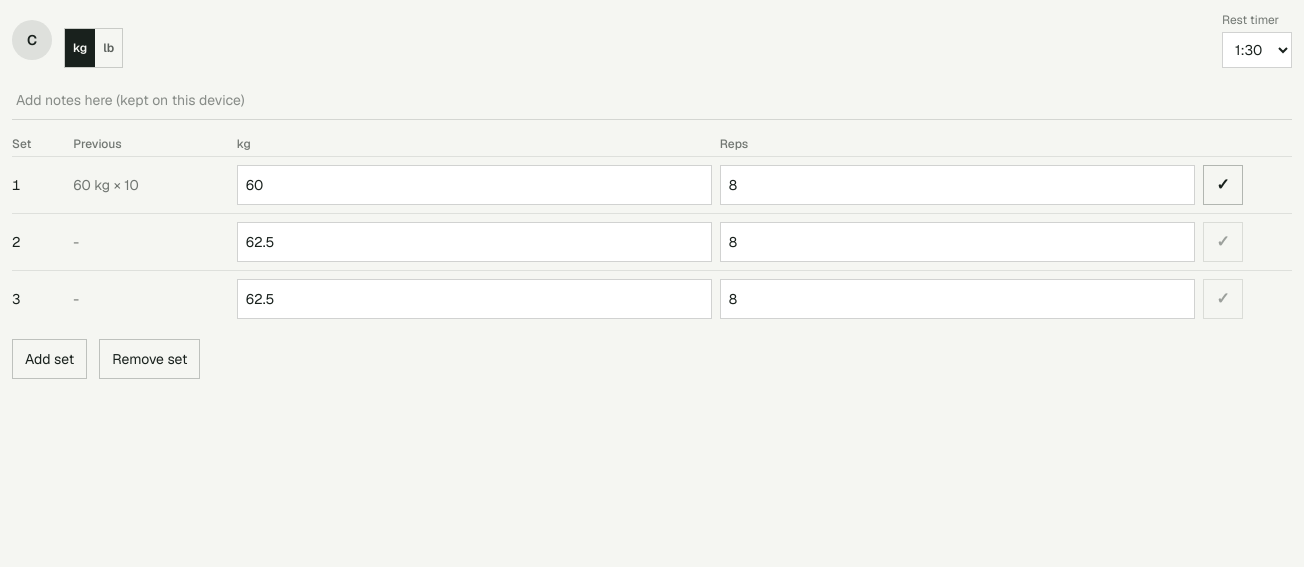
it: ExerciseCard › adds a set up to six and removes only rows that are not logged
Later steps or results of the test are not shown.
Click the button "Add set" at (50, 359), box [12,339,87,379]
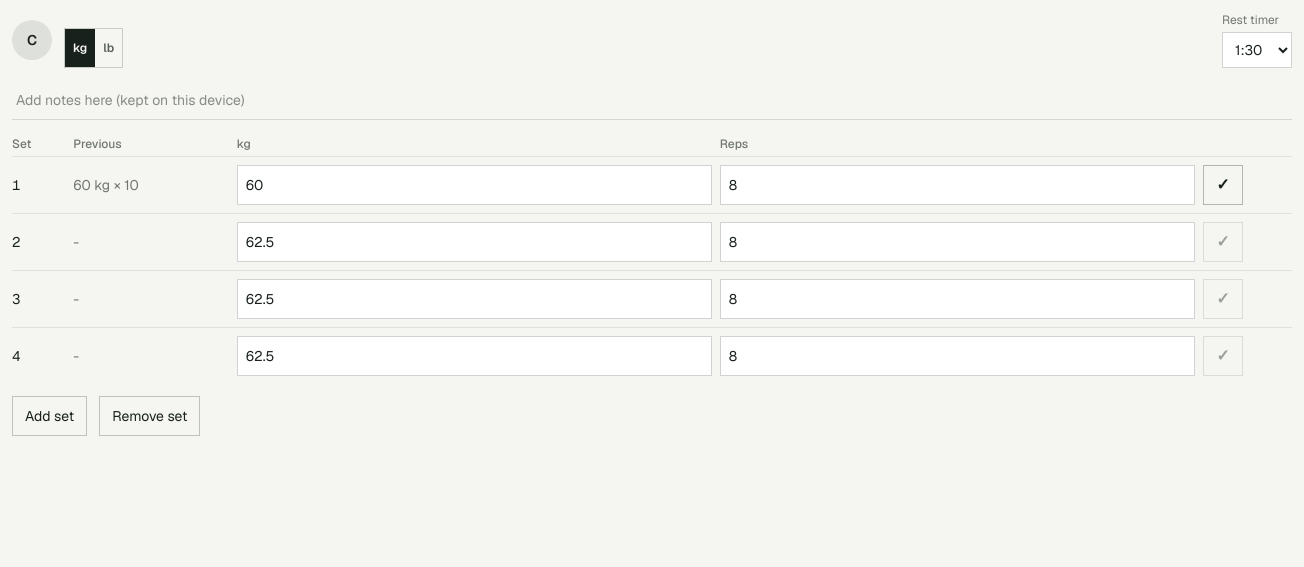
Click the button "Add set" at (50, 416), box [12,396,87,436]
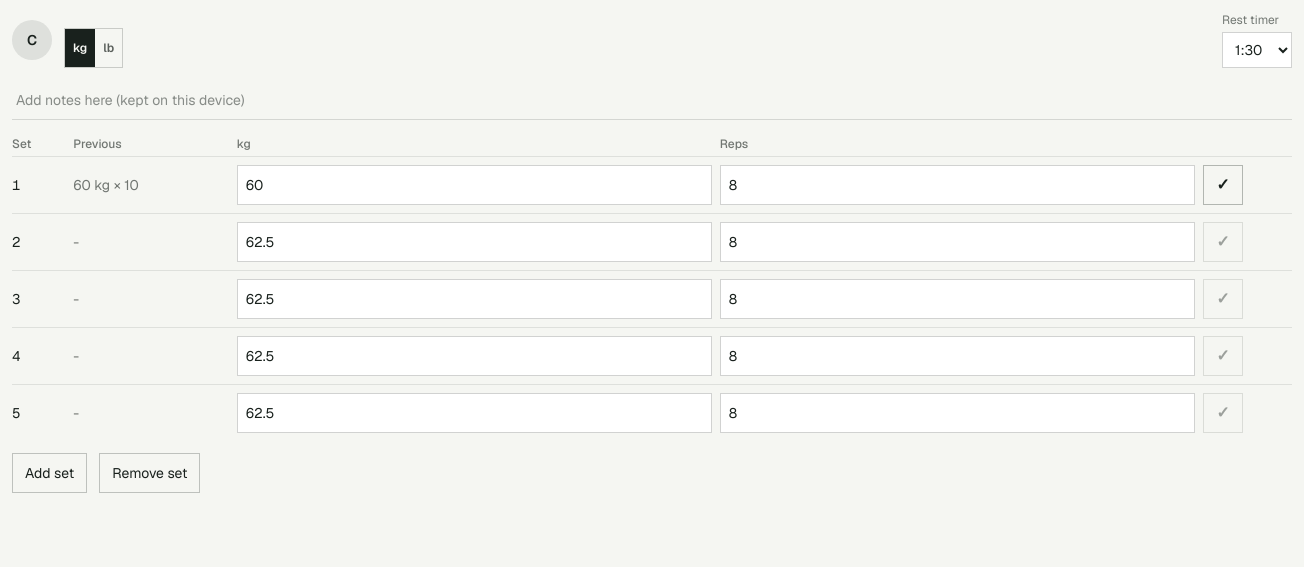
Click the button "Add set" at (50, 473), box [12,453,87,493]
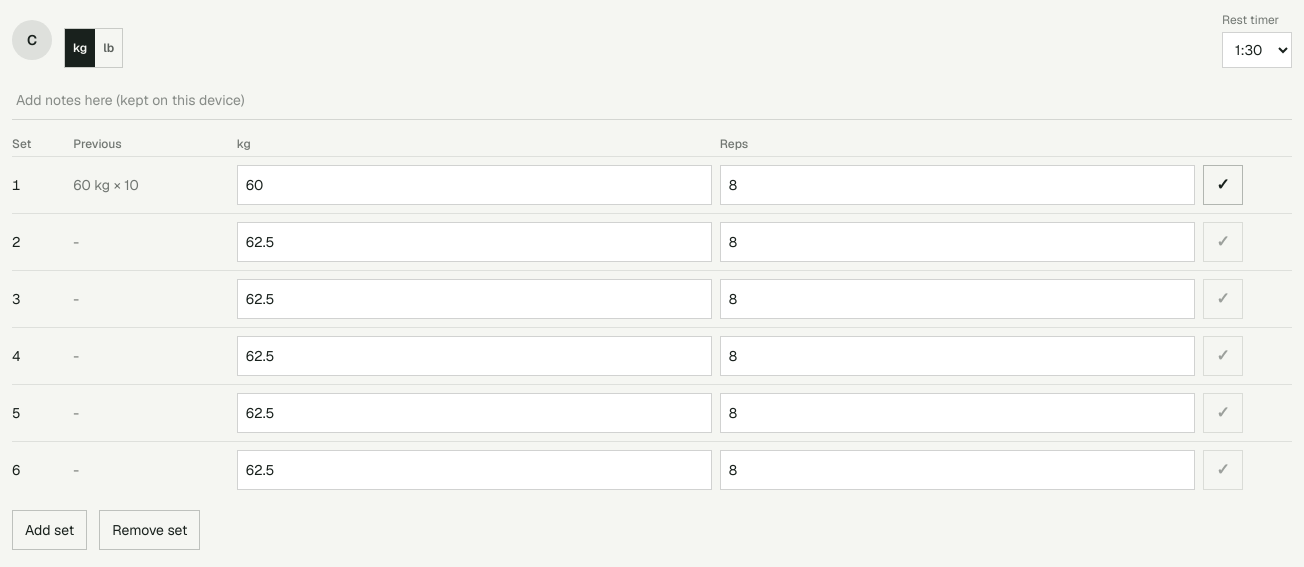
Now the button "Add set" is disabled, box [12,510,87,550]
